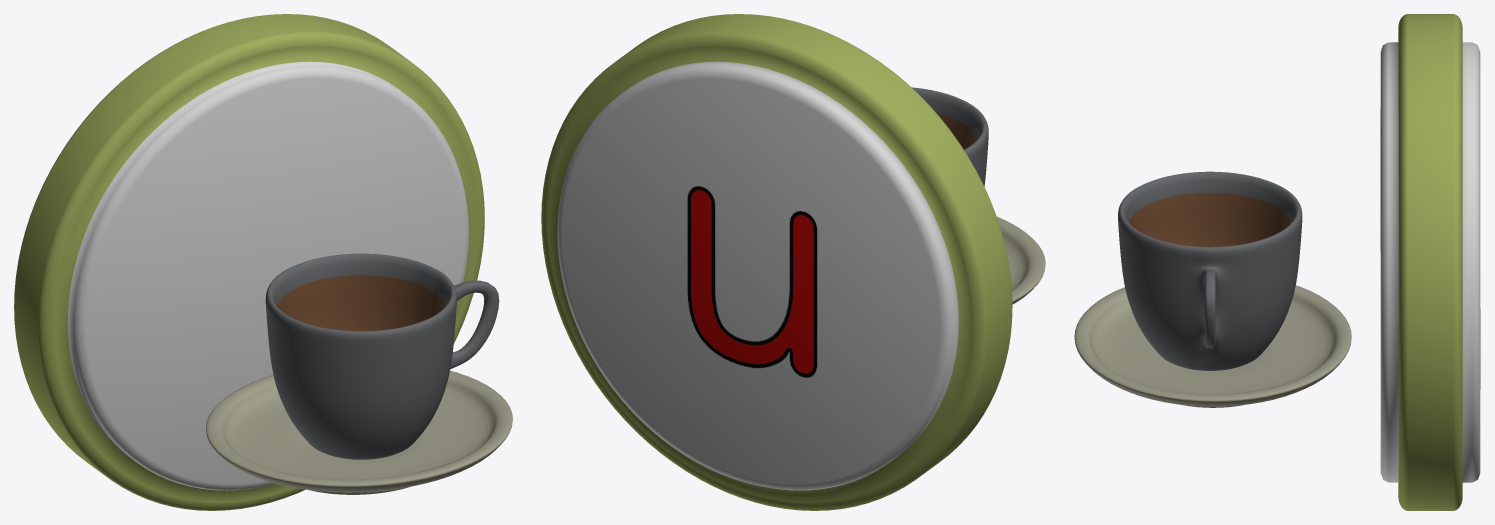
File: cup3.gltf
3 renders of one model, left to right at view 1: azimuth 30°, elevation 25°; view 2: azimuth 150°, elevation 25°; view 3: azimuth 270°, elevation 25°, orthographic. The views are drawn at different scales.
Parts seen in each view (by area): view 1: coin, Cylinder, Cylinder.007; view 2: coin, Cylinder, Cylinder.007; view 3: coin, Cylinder, Cylinder.007.
Part boxes in pixels (<box>): coin: <box>14,14,484,510</box>; Cylinder: <box>265,253,499,459</box>; Cylinder.007: <box>206,370,512,494</box>; coin: <box>541,14,1012,510</box>; Cylinder: <box>912,87,988,186</box>; Cylinder.007: <box>997,217,1045,304</box>; coin: <box>1380,14,1480,510</box>; Cylinder: <box>1118,171,1302,370</box>; Cylinder.007: <box>1074,285,1351,407</box>.
Size of the model in its own units: 2.56 by 2.56 by 2.09.
Materials: 6 (1 with a texture image).
